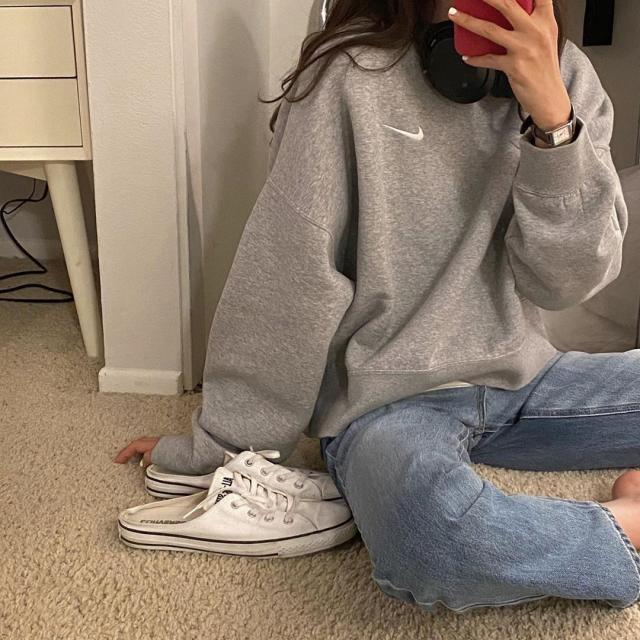sweater: (152, 16, 628, 476)
trousers: (325, 349, 640, 616)
